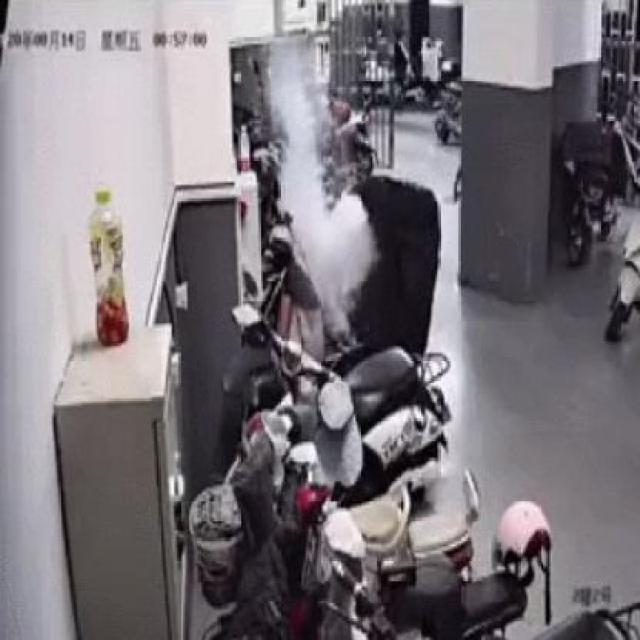Smoke: (273, 48, 375, 350)
